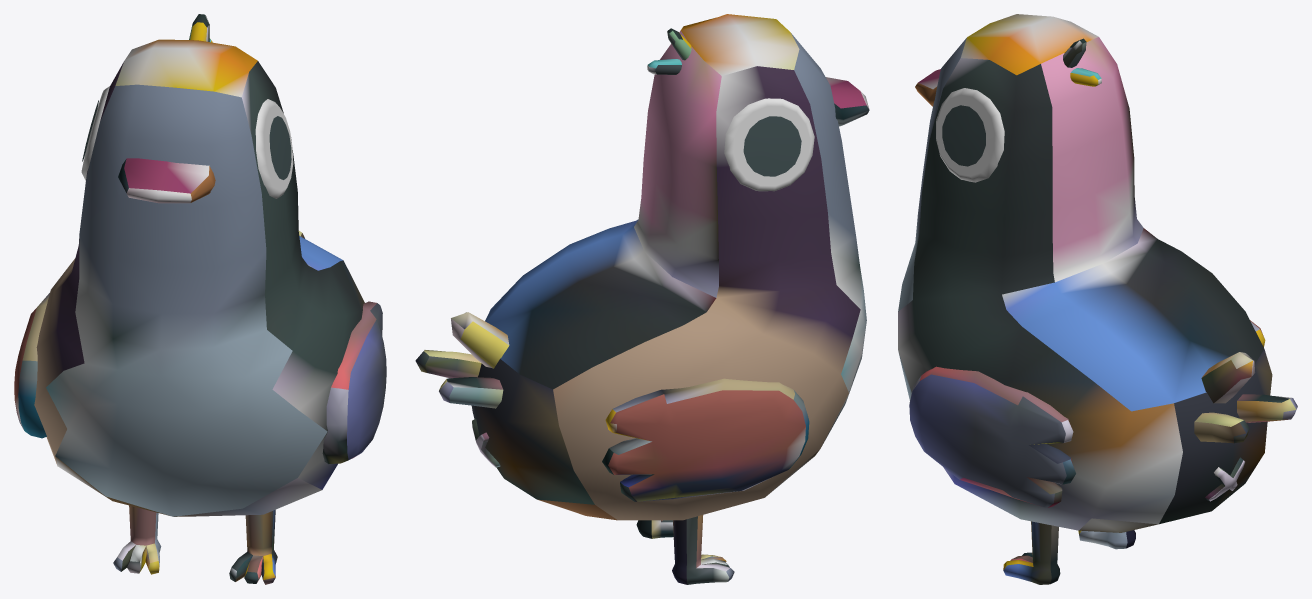
The model's file is Mallard.glb.
3 renders of one model, left to right at view 1: azimuth 30°, elevation 25°; view 2: azimuth 150°, elevation 25°; view 3: azimuth 270°, elevation 25°, orthographic. The views are drawn at different scales.
Parts seen in each view (by area): view 1: 97; view 2: 97; view 3: 97.
Boxes of the visible parts, left/top/right/bottom form: 97: left=14, top=14, right=386, bottom=584; 97: left=415, top=14, right=869, bottom=584; 97: left=898, top=14, right=1297, bottom=584.
Bounding box in the file's own units: 0.5495 × 0.8232 × 0.5722.
